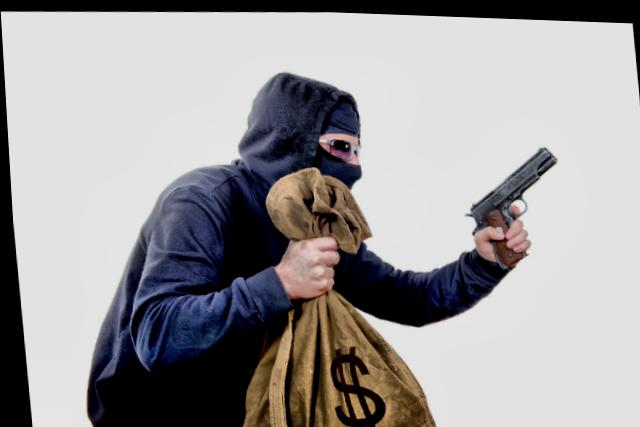pistol: (456, 137, 566, 272)
